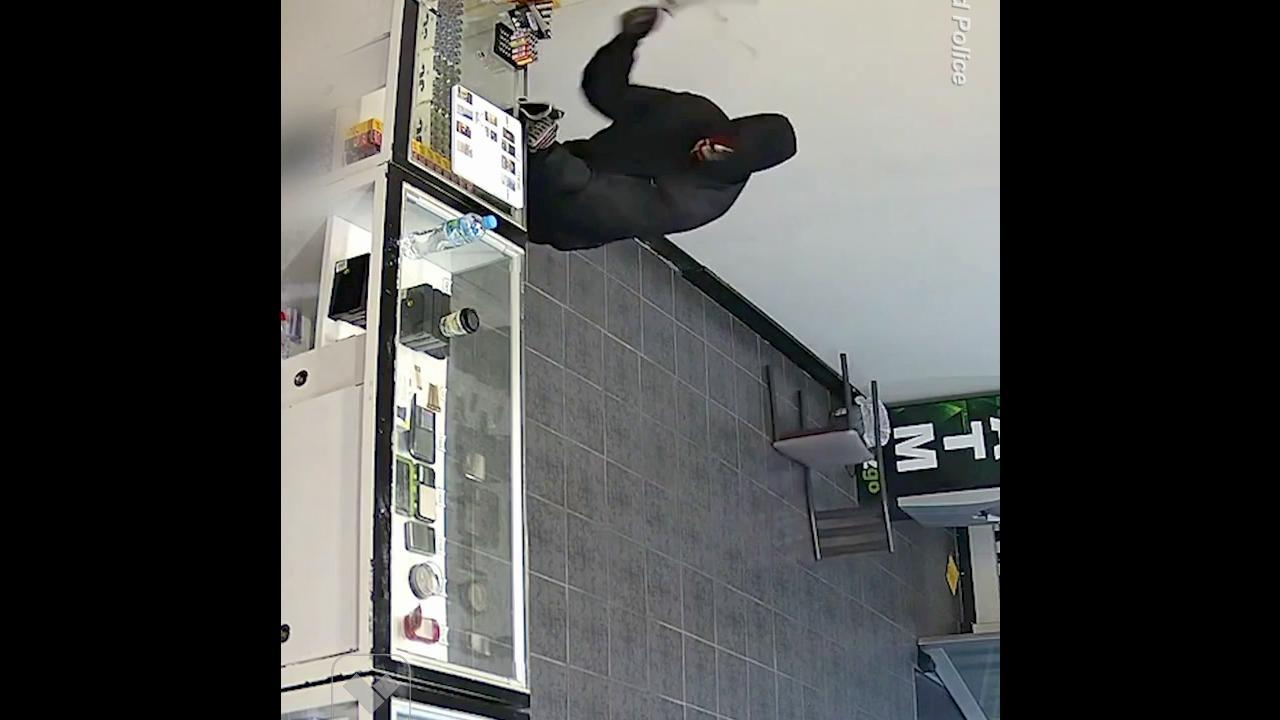melee: (655, 0, 760, 31)
